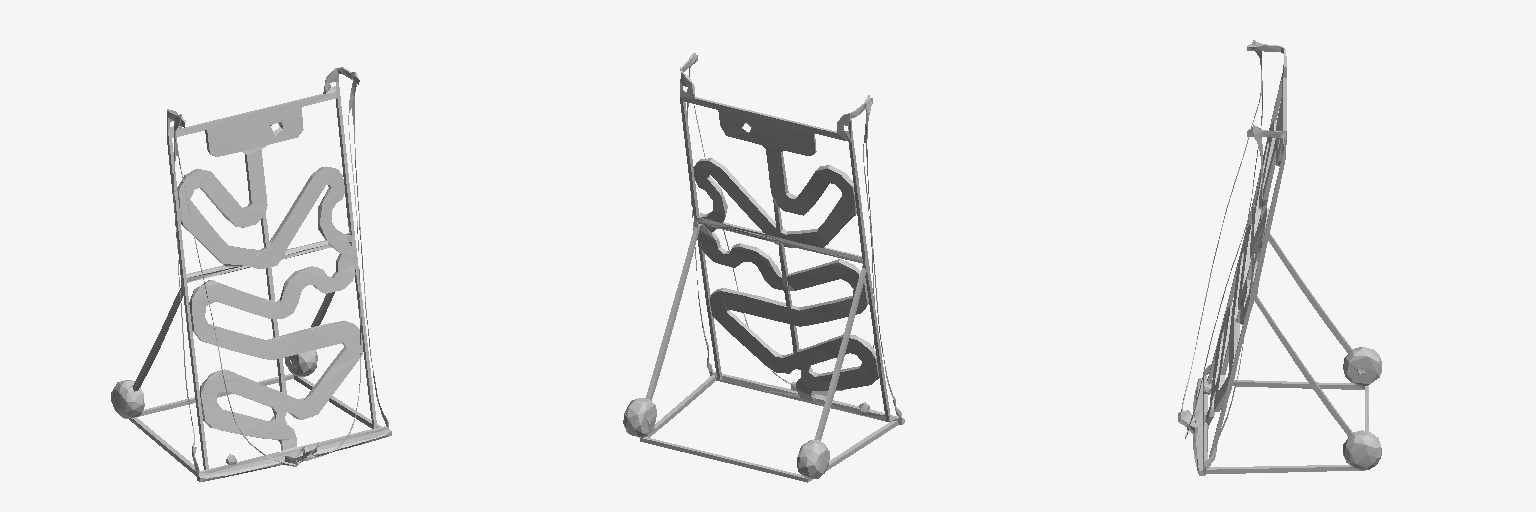
The model's file is RiseTop.obj.
The picture shows the model from 3 angles: view 1: azimuth 30°, elevation 25°; view 2: azimuth 150°, elevation 25°; view 3: azimuth 270°, elevation 25°; orthographic projection.
Visible parts, largest first — view 1: model; view 2: model; view 3: model.
Part boxes in pixels (bbox=[...]): model: bbox=[111, 67, 391, 481]; model: bbox=[623, 53, 904, 482]; model: bbox=[1178, 40, 1381, 475].
Size of the model in its own units: 1.12 by 1.9 by 1.02.